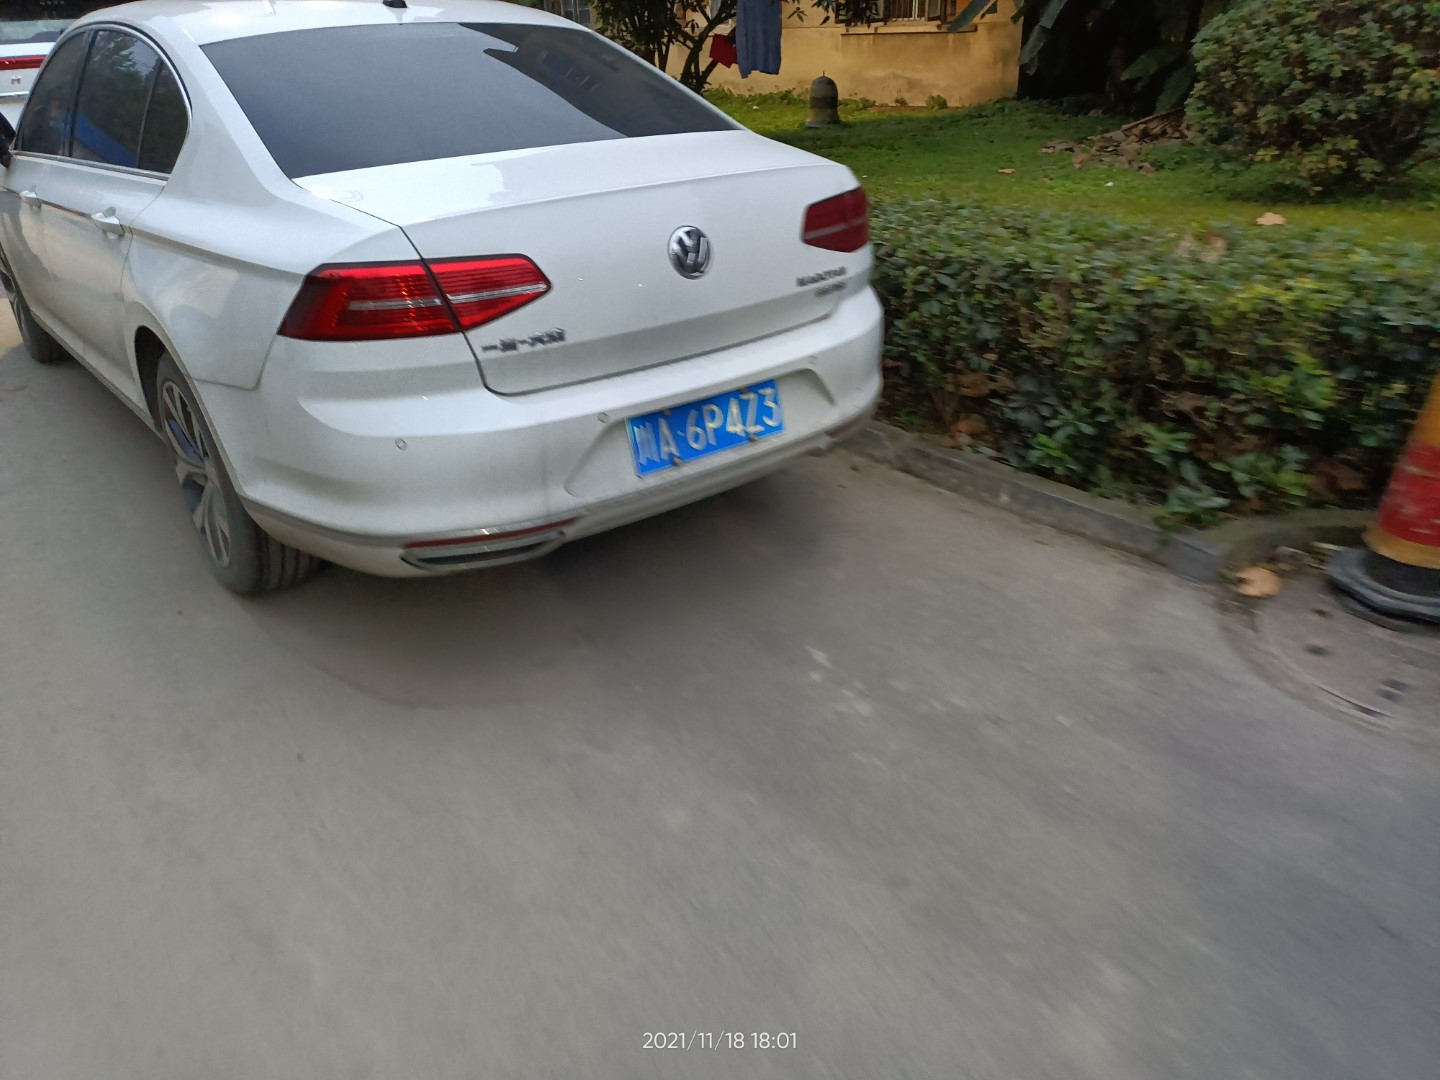plate: (622, 378, 786, 478)
